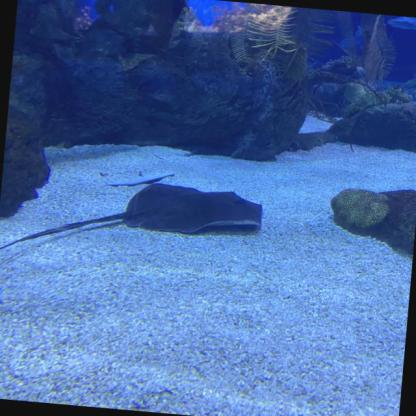fish: (338, 27, 396, 54)
shark: (384, 15, 416, 34)
stingray: (121, 178, 266, 242)
